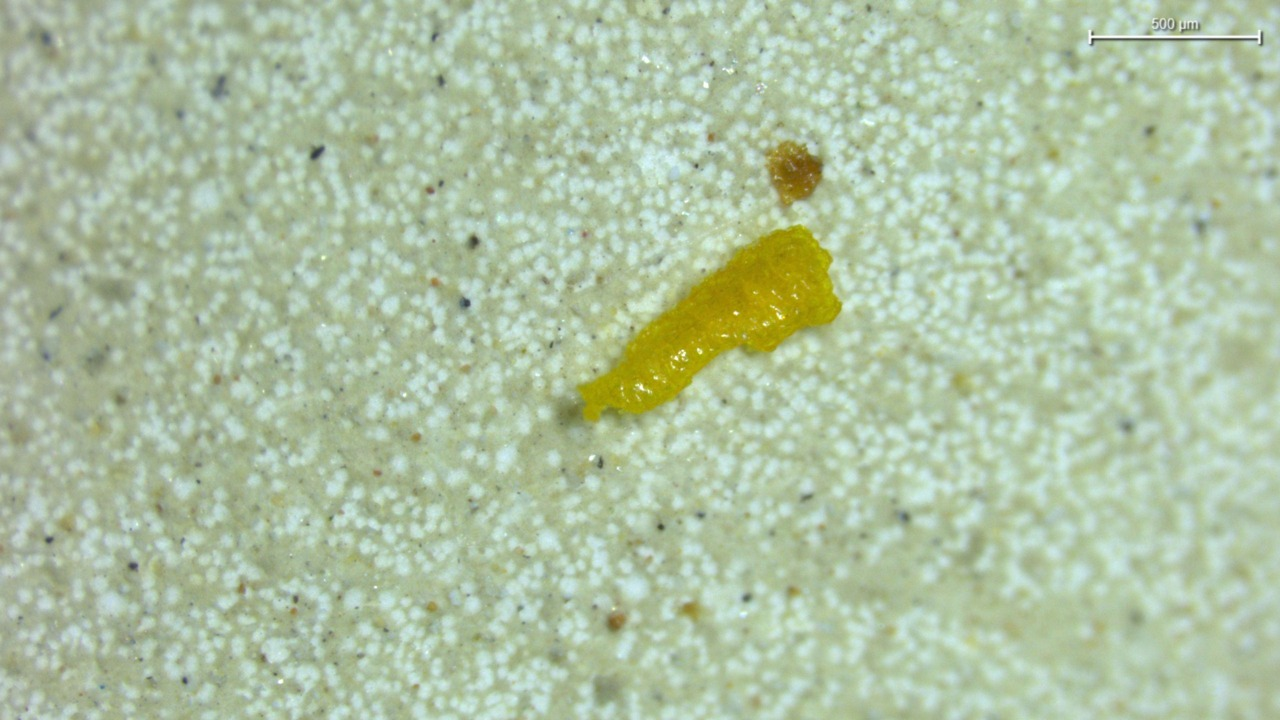microplastic_fragment: (578, 226, 841, 420)
